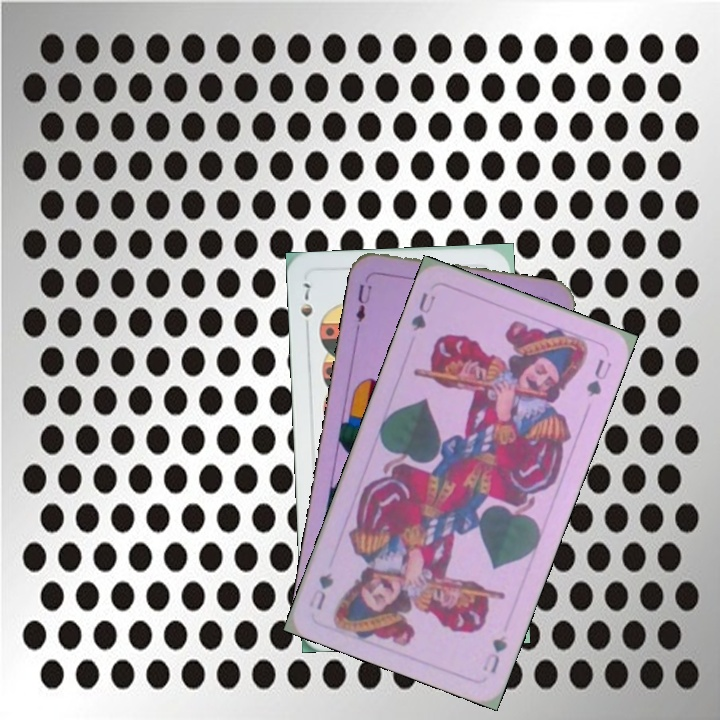EU: (351, 273, 375, 331)
GU: (478, 631, 510, 676), (407, 288, 438, 334)
S7: (297, 279, 316, 336)
